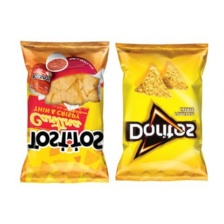snack: (110, 39, 213, 187), (13, 36, 113, 187)
